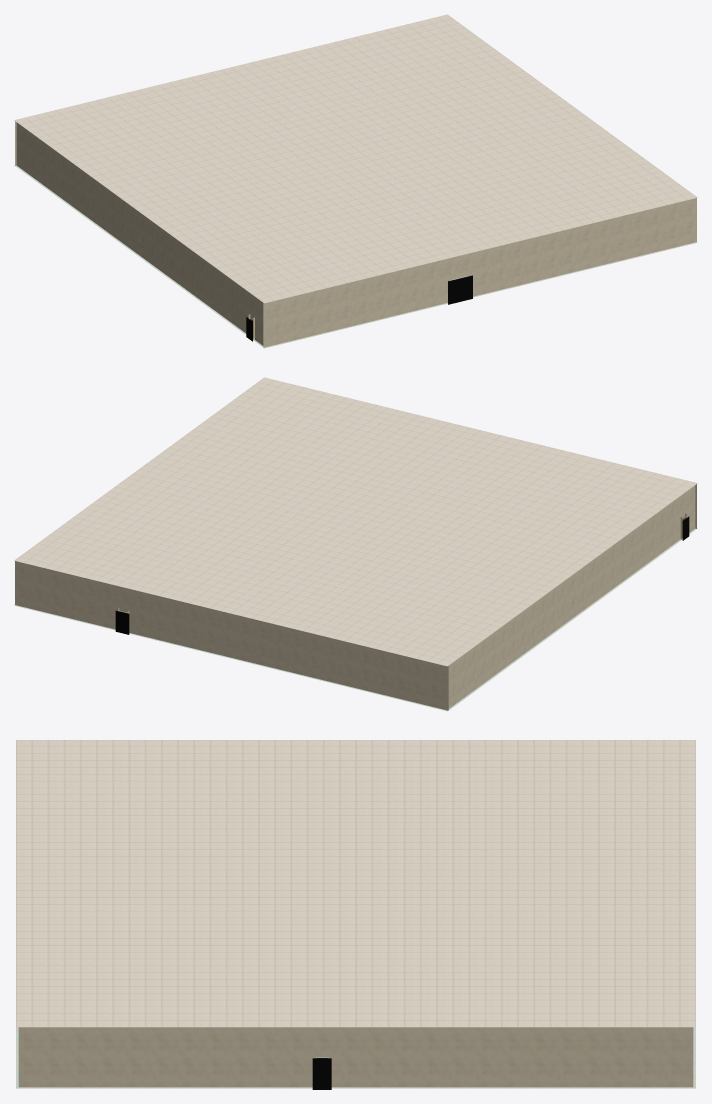
File: rdwe_grocery.glb
3 views of the same model, one above another, from view 1: azimuth 30°, elevation 25°; view 2: azimuth 150°, elevation 25°; view 3: azimuth 270°, elevation 25° (orthographic). The views are drawn at different scales.
Parts seen in each view (by area): view 1: Acoustic.001, Store_Wall.001, Vinyl_Floor.001, Void.001; view 2: Acoustic.001, Store_Wall.001, Vinyl_Floor.001; view 3: Acoustic.001, Store_Wall.001, Vinyl_Floor.001, Void.001.
Part boxes in pixels (x1,y1,x2,y2): Acoustic.001: (14, 14, 697, 303); Store_Wall.001: (15, 121, 696, 347); Vinyl_Floor.001: (14, 165, 697, 348); Void.001: (246, 275, 472, 341); Acoustic.001: (14, 377, 697, 666); Store_Wall.001: (15, 484, 696, 710); Vinyl_Floor.001: (14, 528, 697, 711); Acoustic.001: (16, 740, 695, 1027); Store_Wall.001: (18, 1027, 693, 1087); Vinyl_Floor.001: (16, 1027, 695, 1088); Void.001: (312, 1058, 331, 1089).
Size of the model in its own units: 50.7 by 5.05 by 50.7.
32 materials, 18 textured.
